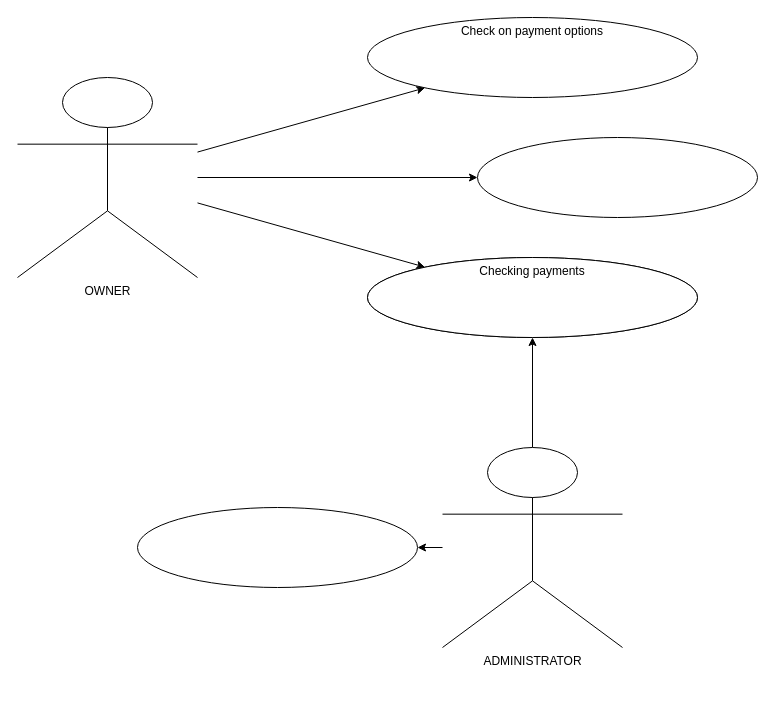
The diagram is 775 pixels wide and 701 high, and some of its shapes have lost their labels. The centre of each missing label's shape, as x and y in pixels:
making different types of payments: the point at 617,177
Registering and validating the payments: the point at 277,547
